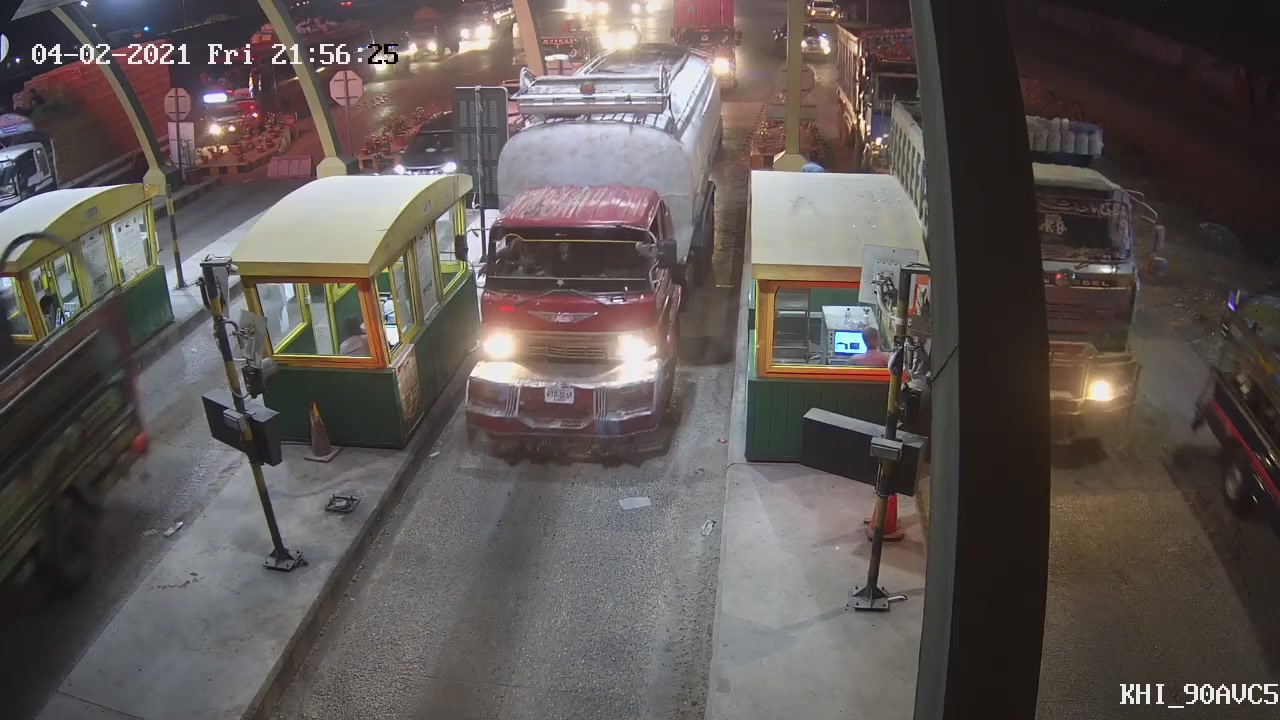F6: (454, 43, 724, 460)
